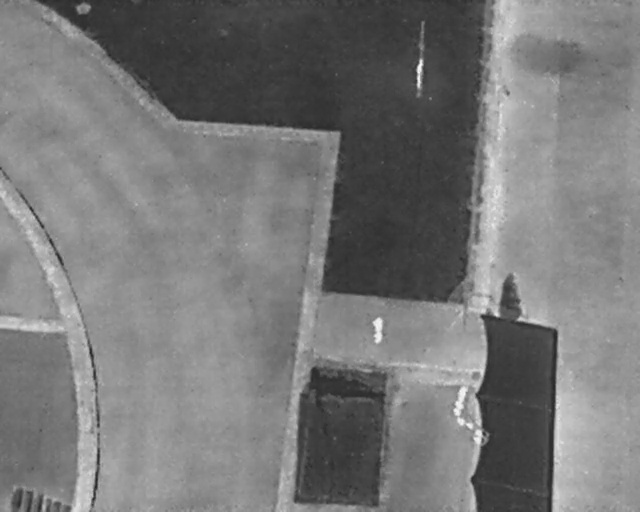Person: (448, 379, 473, 420), (370, 315, 385, 345), (417, 58, 425, 89)
